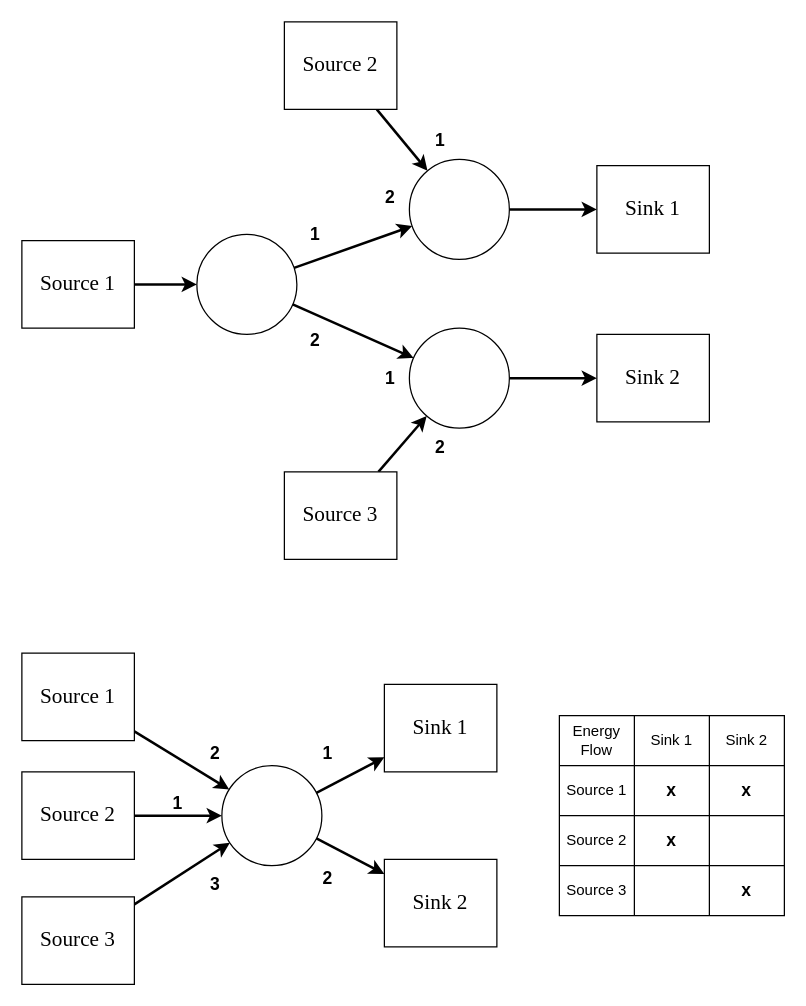
The diagram is 806 pixels wide and 1006 high, and some of its shapes have lost their labels. The centre of each missing label's shape, as x and y in pixels:
Bus 1: (246,283)
Bus 2: (458,208)
Bus 3: (458,377)
Proxy: (271,815)
